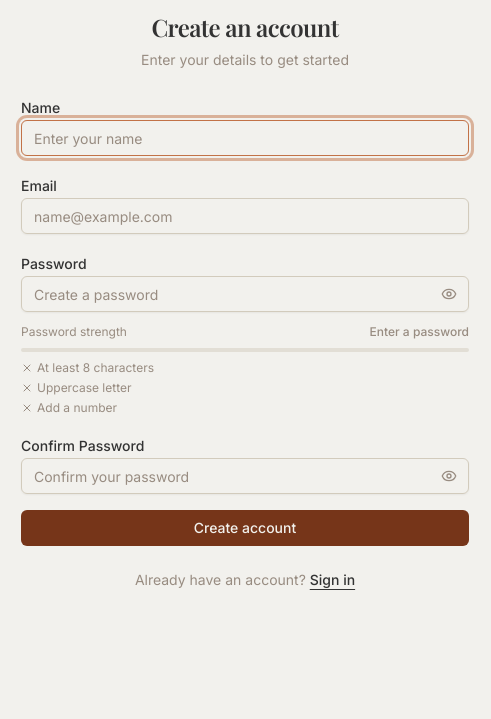
Test: RegisterForm › validation › validates name is required
Click the button "Create account" at (245, 528), box [21,510,469,546]
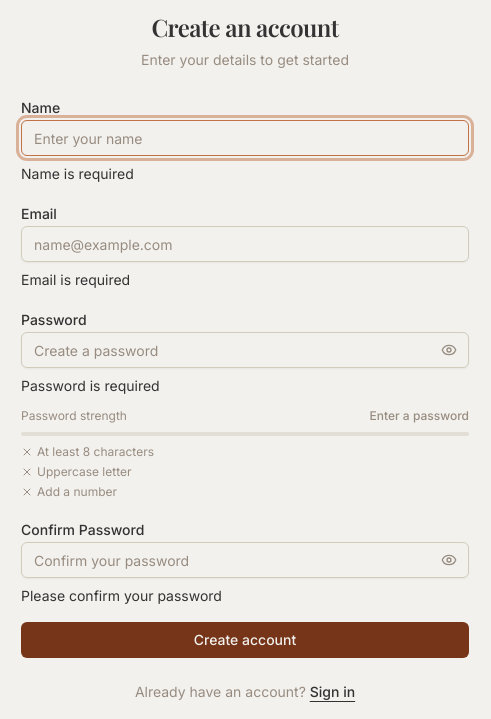
Result: the text "Name is required" is shown at [21,165,134,182]
